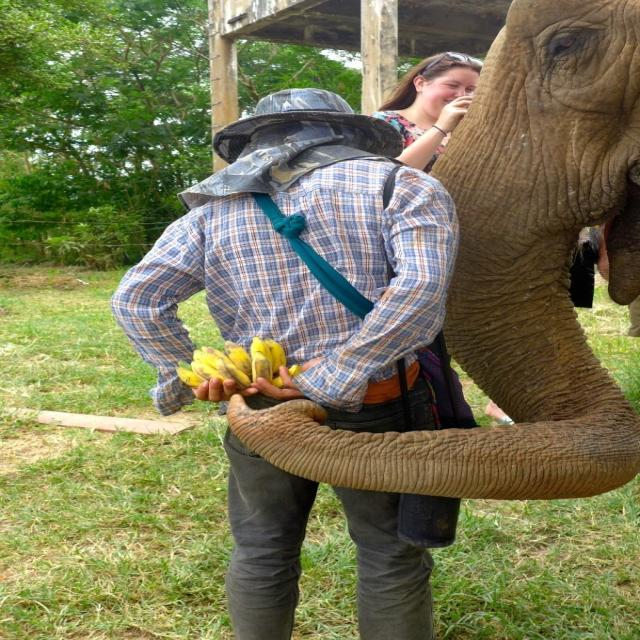Elephant: (226, 0, 639, 504)
